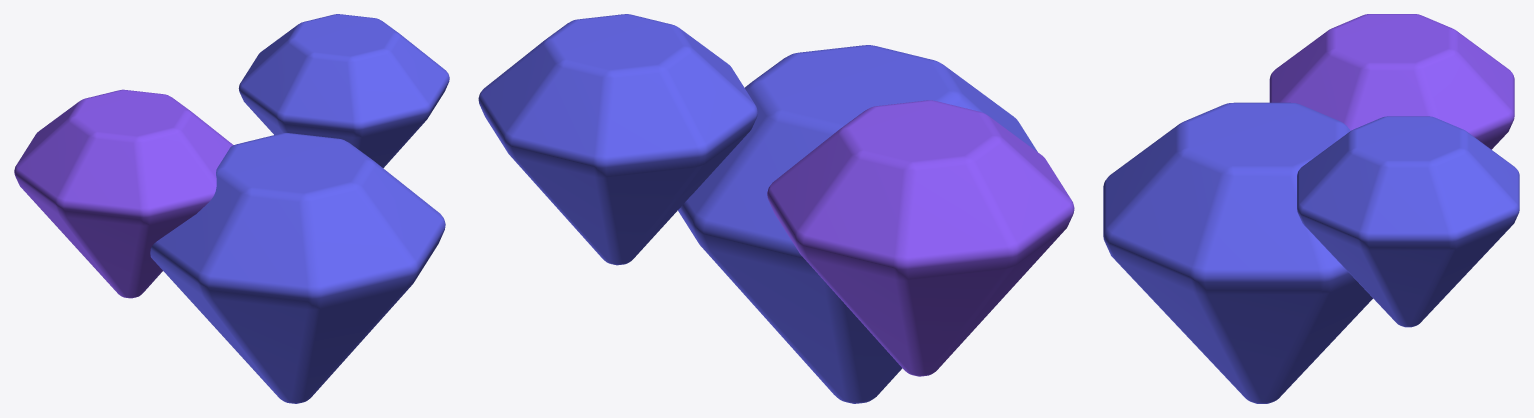
File: gem-stack.glb
3 renders of one model, left to right at view 1: azimuth 30°, elevation 25°; view 2: azimuth 150°, elevation 25°; view 3: azimuth 270°, elevation 25°, orthographic. The views are drawn at different scales.
Parts seen in each view (by area): view 1: Front indigo gem, Left violet gem, Right blue violet gem; view 2: Left violet gem, Right blue violet gem, Front indigo gem; view 3: Front indigo gem, Right blue violet gem, Left violet gem.
Boxes of the visible parts, <box> form: Front indigo gem: <box>150,133,445,403</box>; Left violet gem: <box>14,89,233,298</box>; Right blue violet gem: <box>238,14,449,168</box>; Left violet gem: <box>767,100,1074,376</box>; Right blue violet gem: <box>478,14,757,265</box>; Front indigo gem: <box>678,45,1037,403</box>; Front indigo gem: <box>1103,102,1372,403</box>; Right blue violet gem: <box>1297,116,1519,327</box>; Left violet gem: <box>1269,14,1514,149</box>.
Size of the model in its own units: 4.66 by 3.2 by 3.73.
